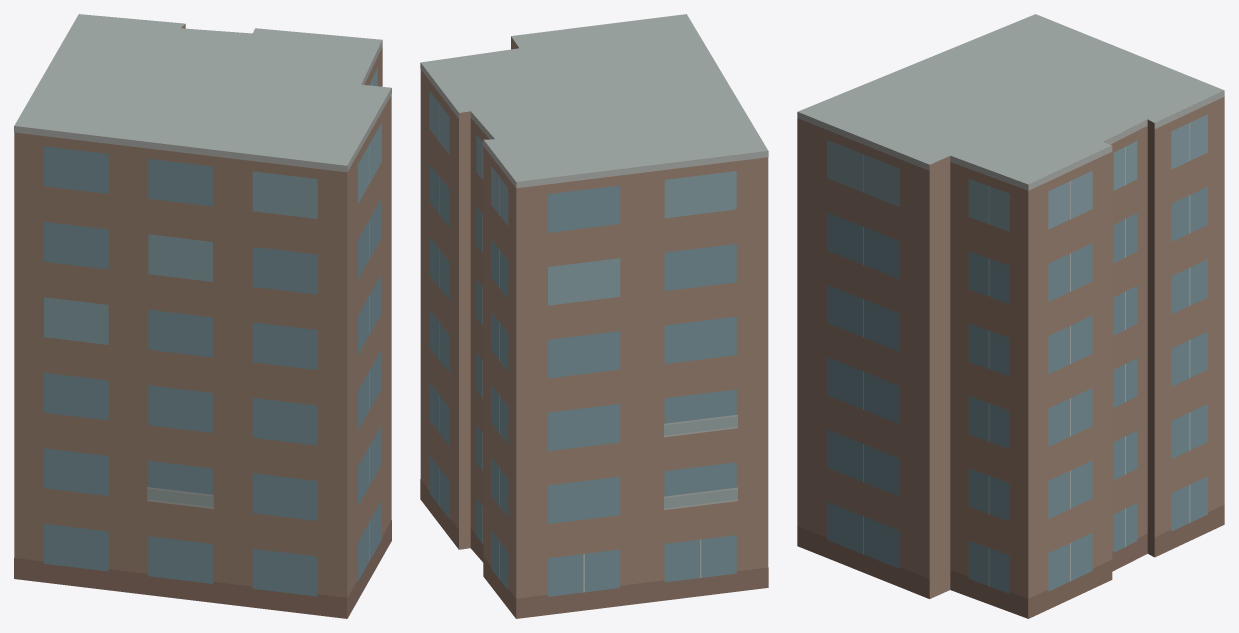
The model's file is survey-upis-32669356.glb.
3 renders of one model, left to right at view 1: azimuth 30°, elevation 25°; view 2: azimuth 150°, elevation 25°; view 3: azimuth 270°, elevation 25°, orthographic. The views are drawn at different scales.
Visible parts, largest first — view 1: survey-upis-32669356.tmp; view 2: survey-upis-32669356.tmp; view 3: survey-upis-32669356.tmp.
Part boxes in pixels (left/top/right/bottom): survey-upis-32669356.tmp: left=14, top=14, right=391, bottom=618; survey-upis-32669356.tmp: left=420, top=14, right=768, bottom=618; survey-upis-32669356.tmp: left=797, top=14, right=1224, bottom=618.
Bounding box in the file's own units: 14.24 × 16.9 × 15.07.
